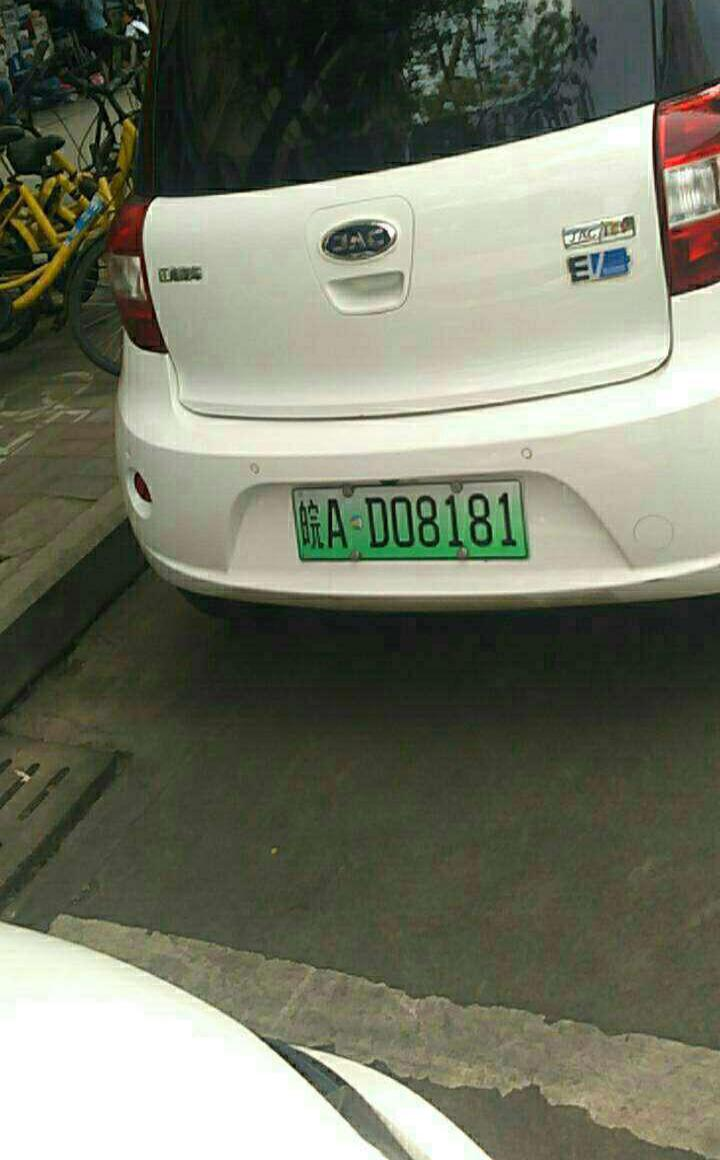car: (285, 476, 538, 578)
